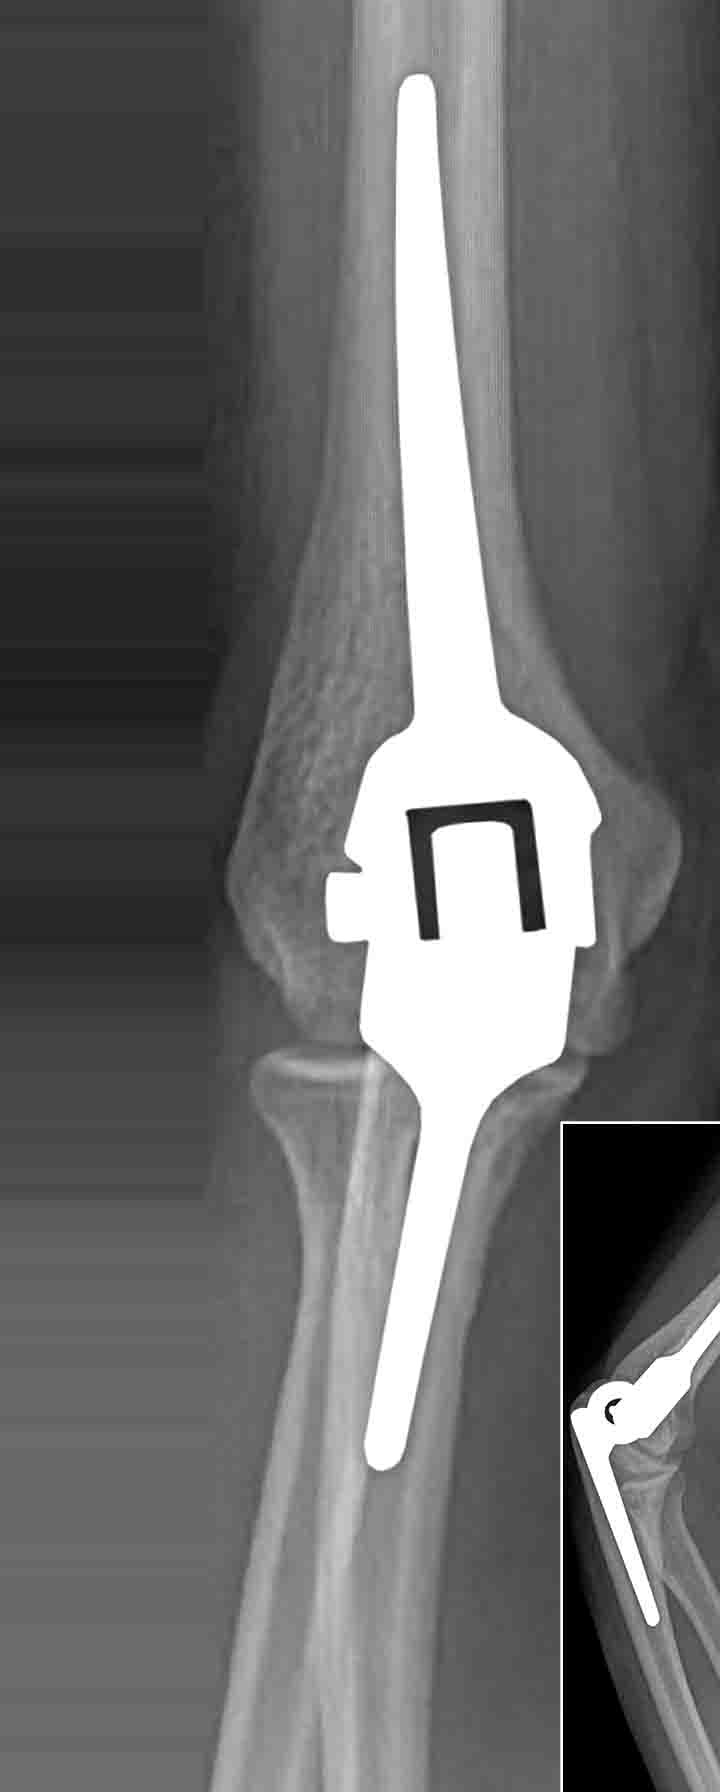Elbow - Osteonics - Stryker: (295, 69, 618, 1368), (565, 1170, 720, 1665)
